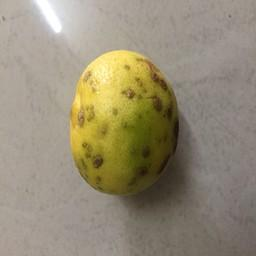Bad_lime: (69, 47, 184, 196)
